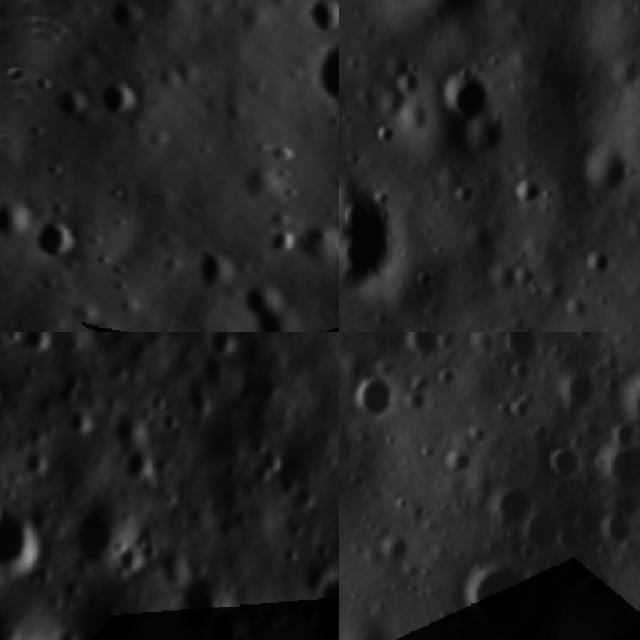crater: (339, 166, 412, 308), (453, 553, 542, 640), (218, 264, 321, 332), (172, 557, 232, 640), (290, 30, 339, 129), (428, 57, 494, 130), (0, 486, 50, 580), (188, 239, 254, 310), (346, 361, 415, 427), (580, 133, 638, 210), (88, 67, 153, 135), (479, 471, 545, 534), (27, 212, 91, 276), (68, 502, 128, 570), (515, 498, 578, 558), (548, 364, 611, 424), (530, 429, 590, 489), (0, 186, 48, 253), (291, 215, 339, 281), (483, 332, 545, 381), (48, 82, 102, 136), (305, 555, 339, 640), (592, 443, 640, 503), (391, 332, 455, 375), (259, 222, 311, 274), (204, 596, 265, 640), (608, 363, 640, 443), (102, 0, 156, 44), (370, 529, 420, 575), (508, 166, 554, 215), (118, 444, 162, 493), (574, 239, 618, 287), (298, 0, 339, 51), (246, 444, 290, 488), (62, 400, 100, 434), (204, 332, 246, 362), (21, 444, 55, 481), (20, 332, 66, 358), (159, 408, 184, 437), (150, 390, 169, 416), (0, 379, 8, 408)
